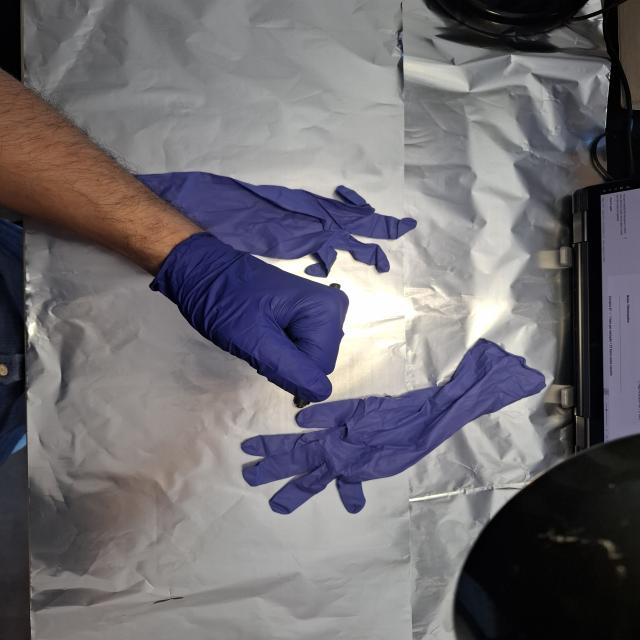glove_on: (145, 230, 351, 405)
